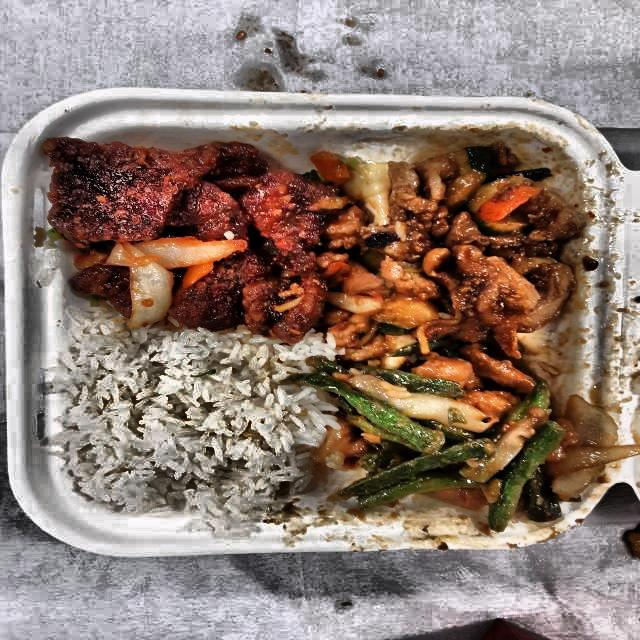Food: (40, 126, 343, 330), (324, 134, 594, 362), (58, 332, 318, 526), (331, 348, 584, 522)
